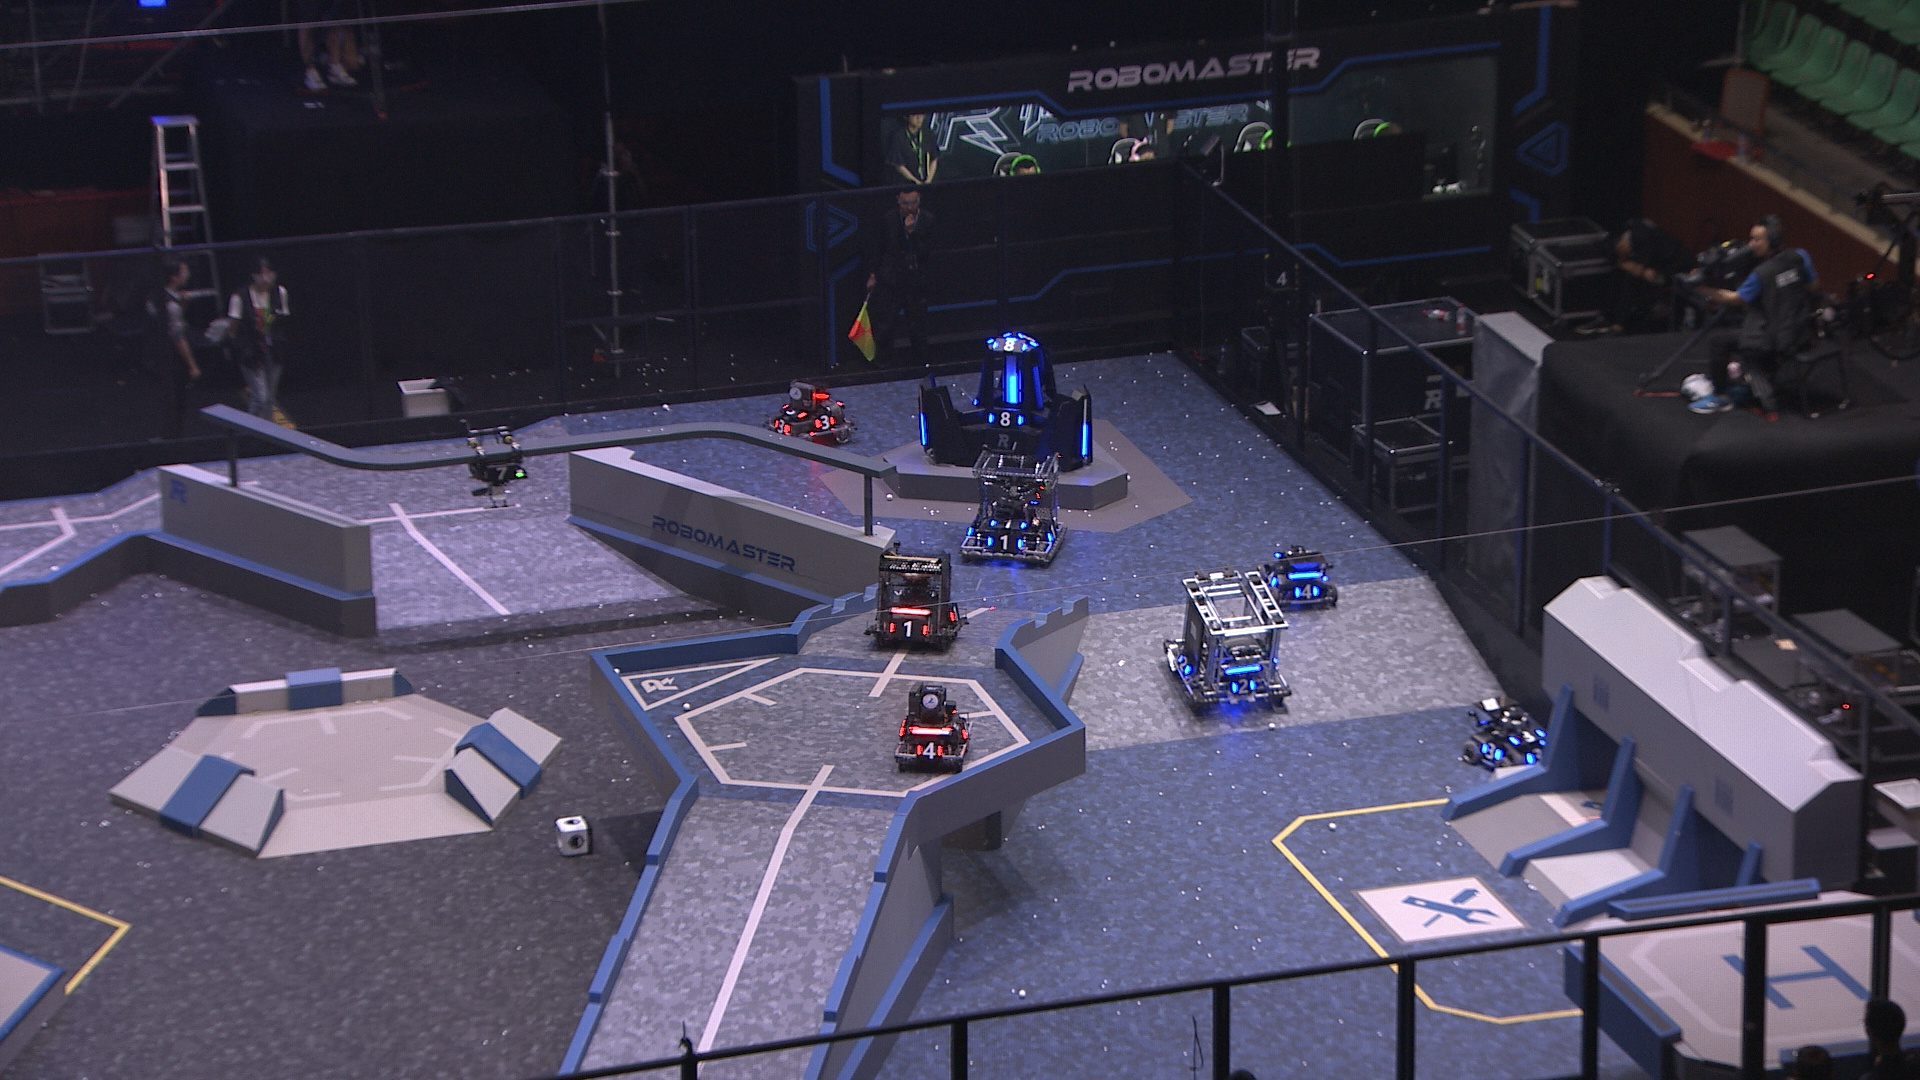armor: (884, 617, 931, 642), (483, 460, 527, 481), (986, 531, 1026, 553), (1505, 727, 1544, 746), (808, 411, 840, 433), (1524, 740, 1551, 765), (915, 740, 945, 761), (1291, 582, 1321, 603), (1476, 738, 1501, 764), (992, 338, 1030, 353), (984, 410, 1025, 425), (1232, 675, 1258, 698), (986, 517, 1025, 531), (1005, 372, 1021, 406), (945, 600, 965, 626), (781, 401, 807, 419), (771, 417, 793, 439), (1033, 367, 1044, 406), (1044, 520, 1063, 545), (1077, 423, 1091, 458), (1174, 651, 1192, 675), (916, 411, 928, 447), (957, 721, 975, 741), (1266, 567, 1280, 589)
base: (913, 328, 1097, 471)
car: (1166, 564, 1295, 717), (957, 439, 1069, 571), (861, 545, 968, 654), (1460, 690, 1561, 774), (891, 683, 975, 773), (761, 378, 851, 451), (1259, 538, 1338, 612)
watcher: (462, 422, 529, 509)
